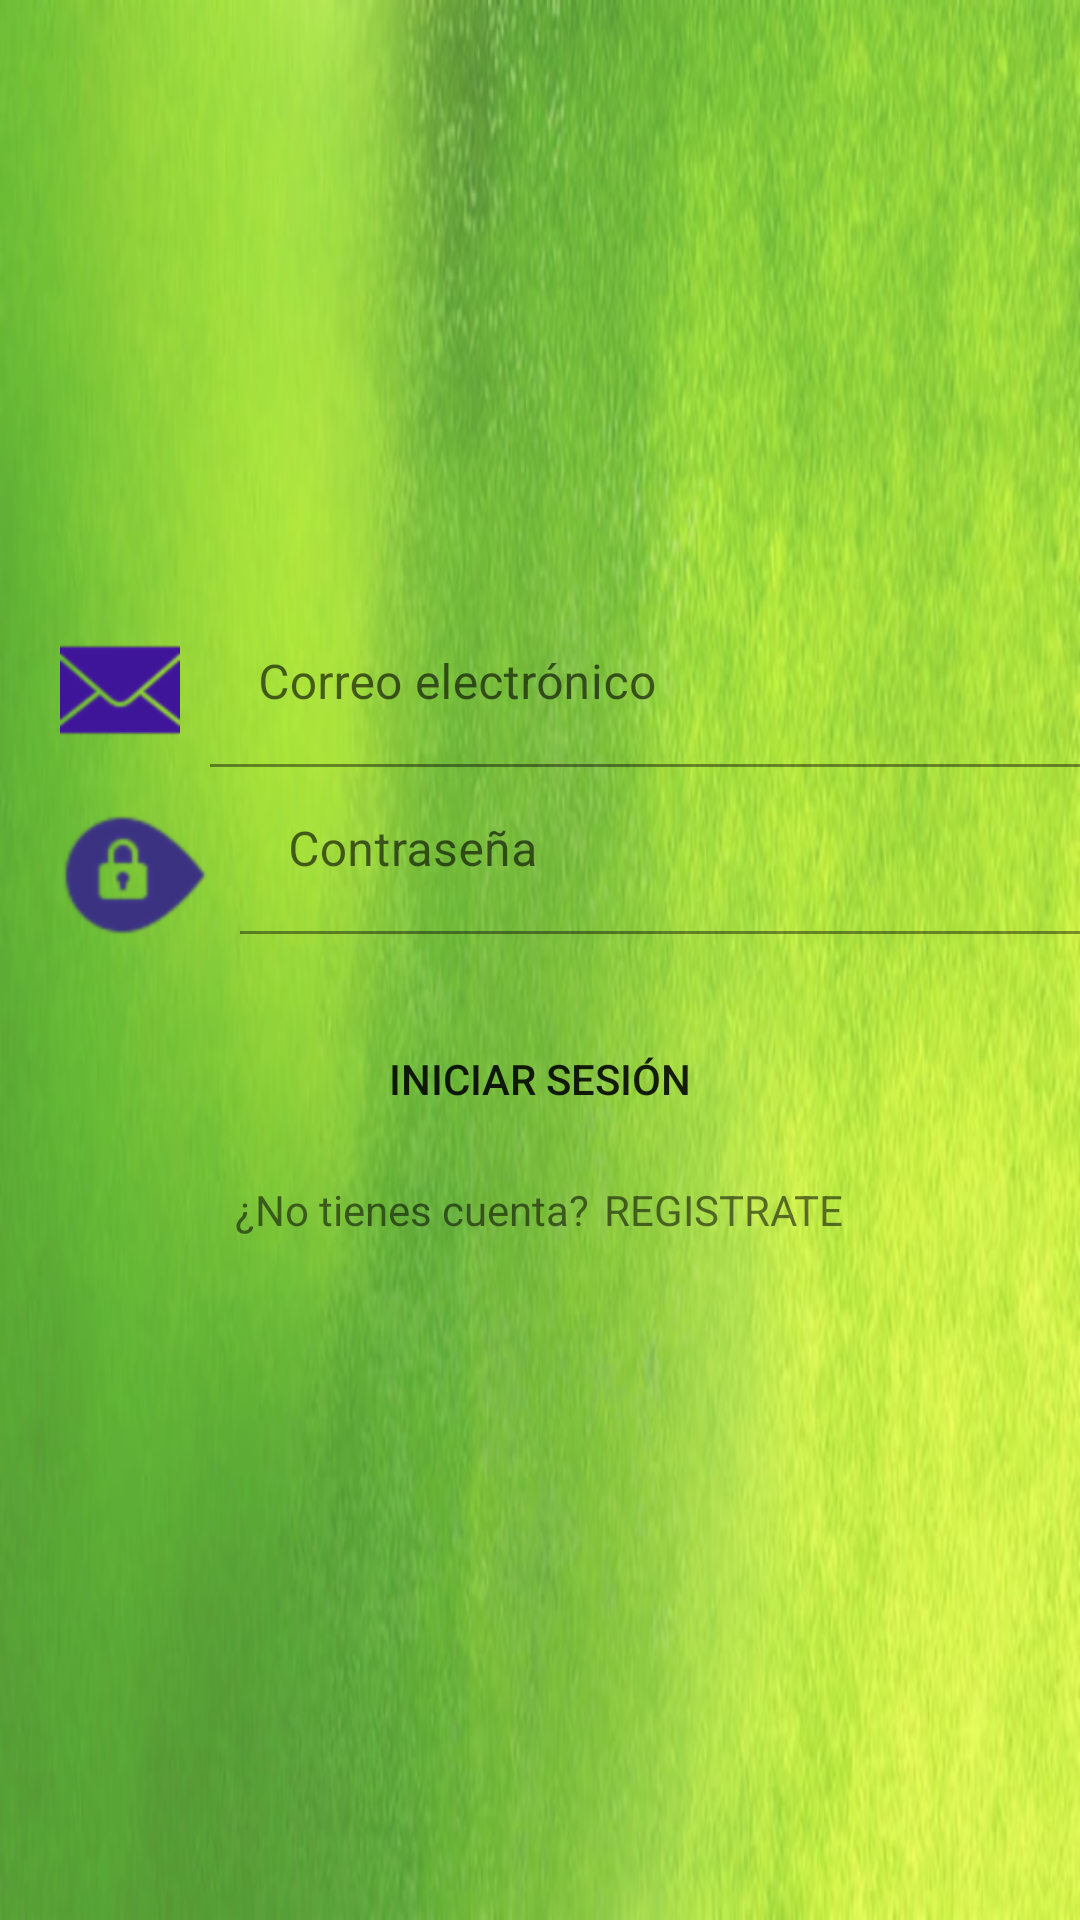

Icon click points for this 1080*1920 phone screenshot, format (x,y):
iconocorreo: (120,690)
iconpassword: (135,872)
